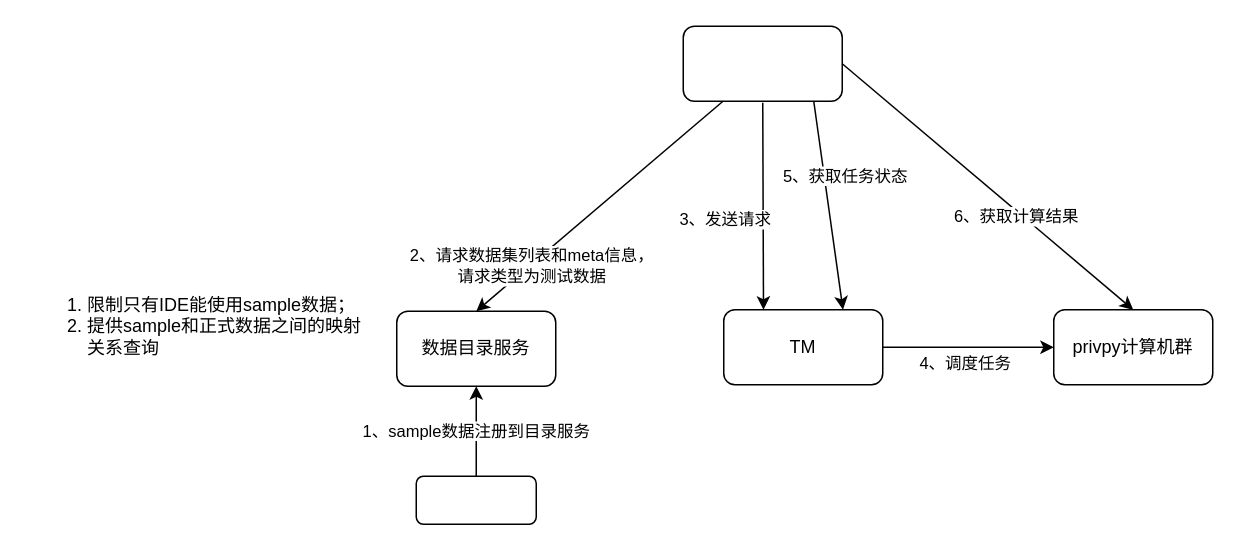
Some shapes in this 1239 by 551 pixel diagram are drawn without their labels. The shapes that lost their labels are listed below. From the top down, each one's centre as x and y in pixels, then its label:
pixel 762 63: IDE
pixel 475 499: DS
